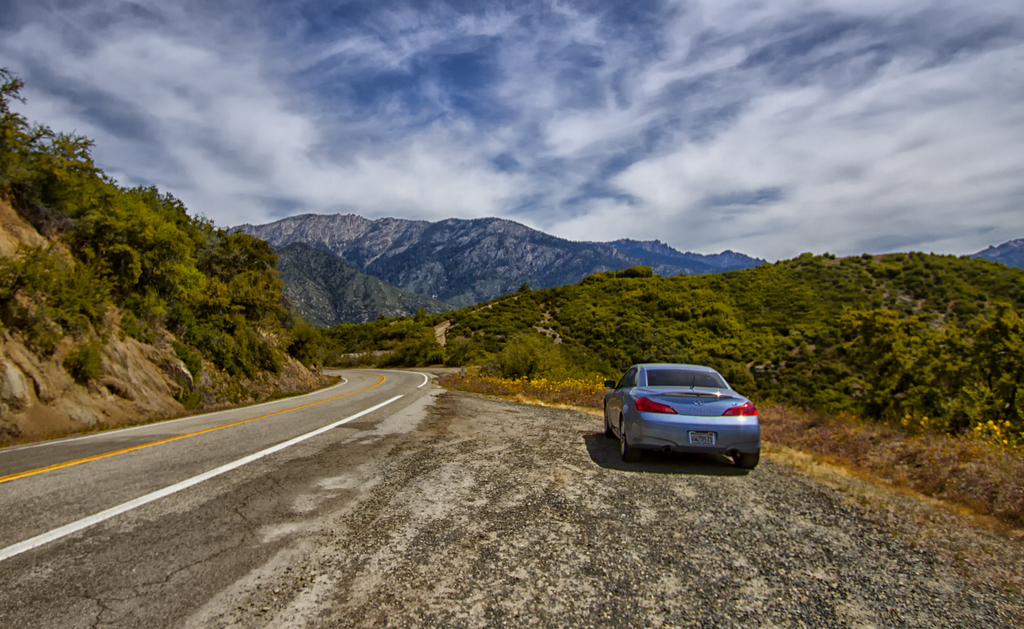mobil: (600, 355, 764, 479)
